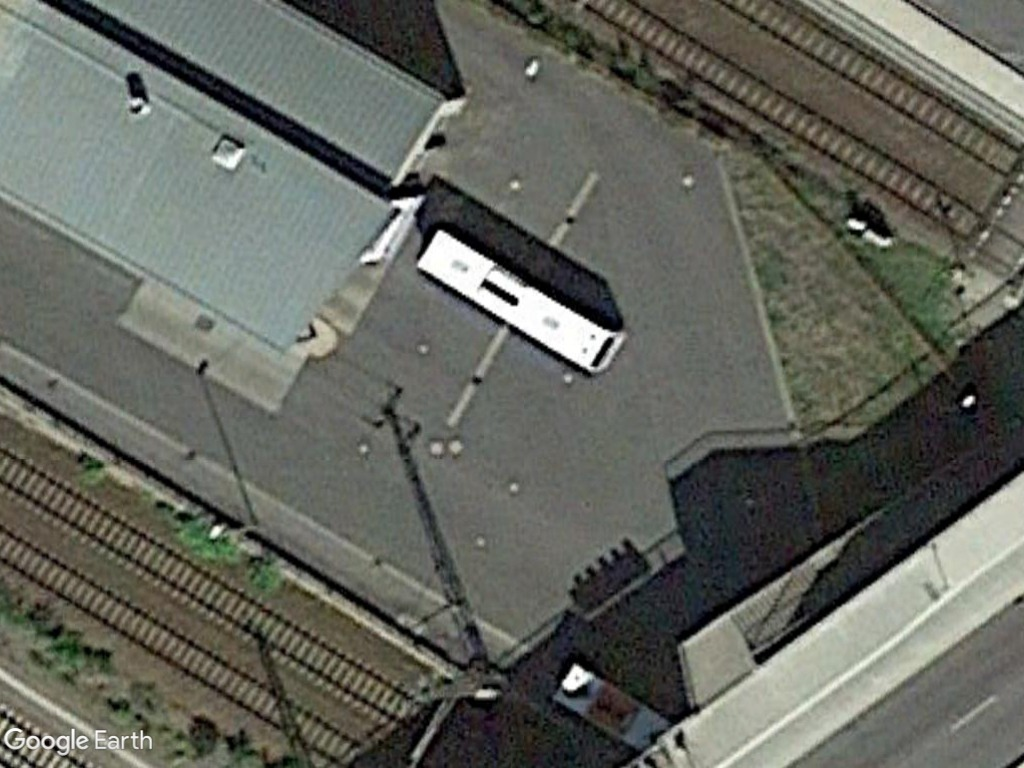bus: (406, 217, 631, 379)
